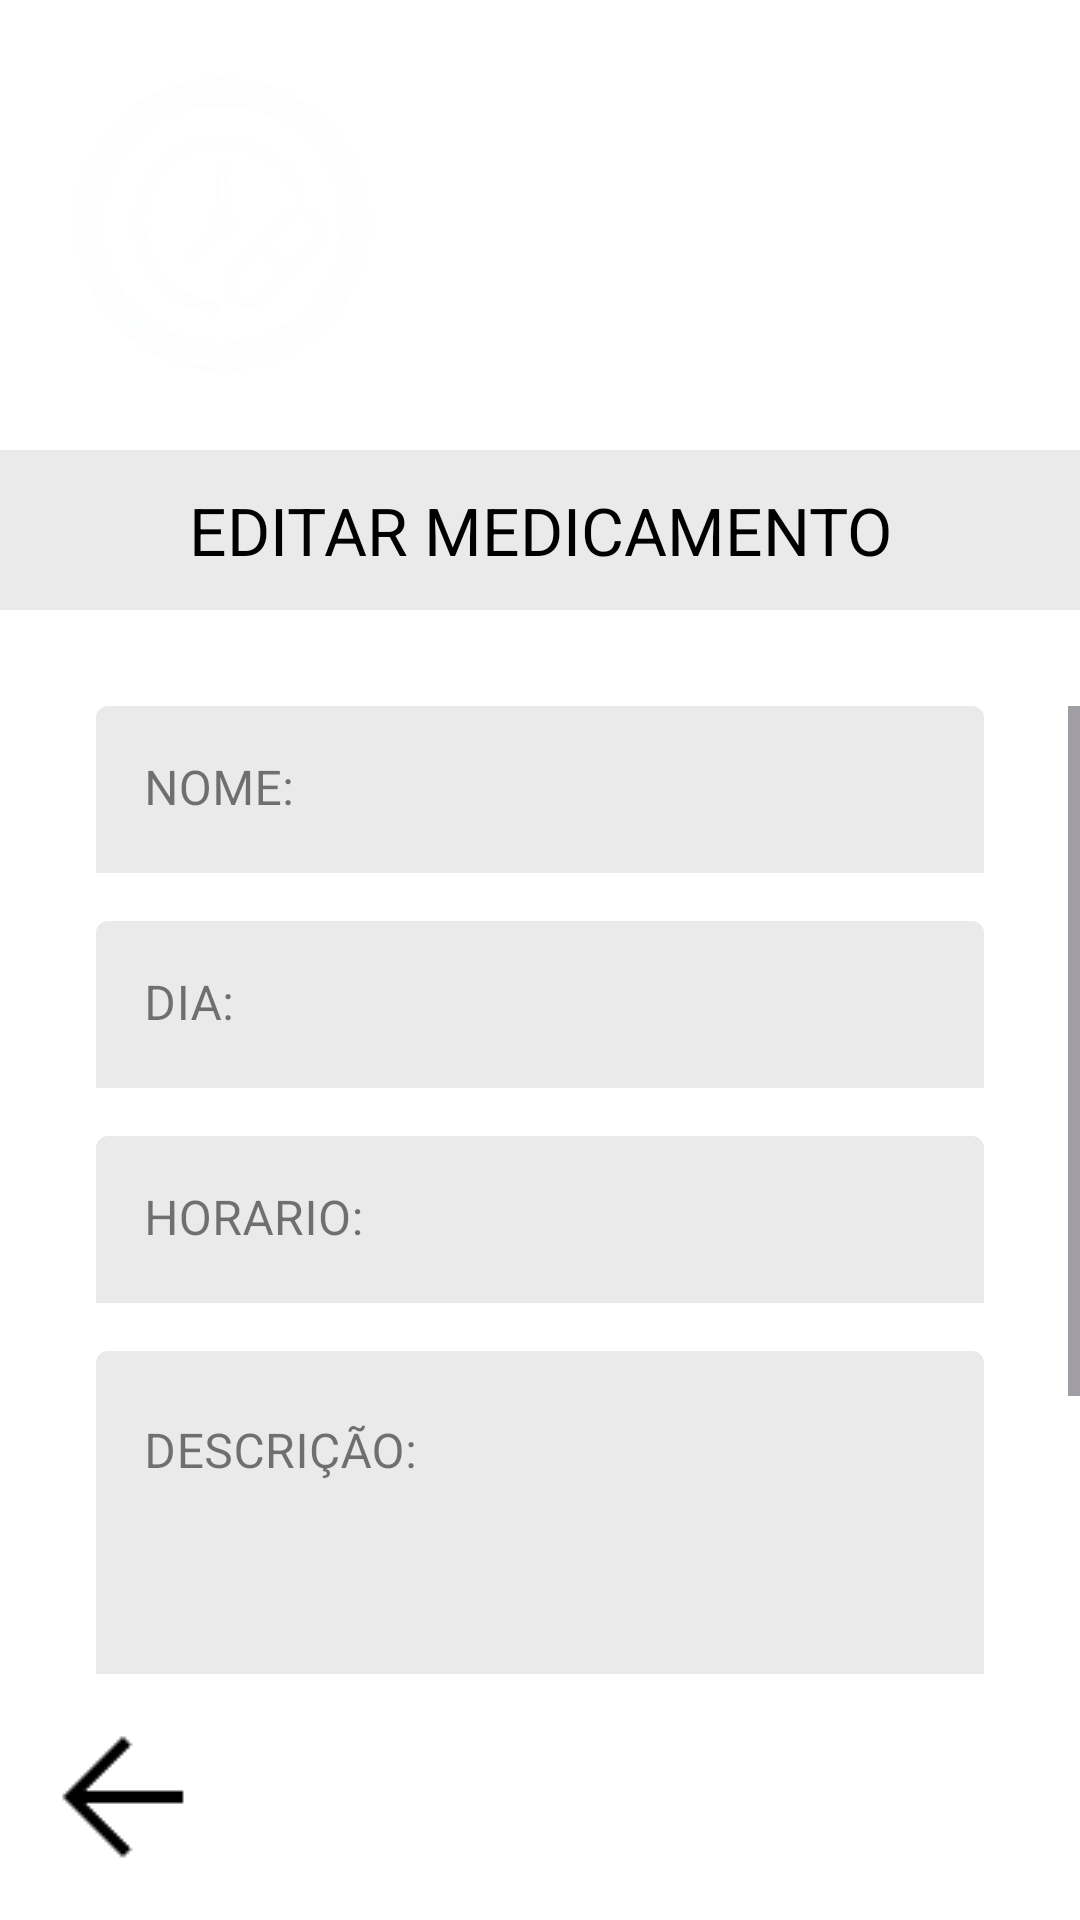

Icon bounding boxes for this 1080w x 1920h phone screenshot, format bbox=(x1, y1, x2, y2):
Voltar: bbox=(62, 1736, 184, 1858)
